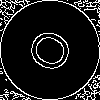O: (25, 25, 84, 80)
